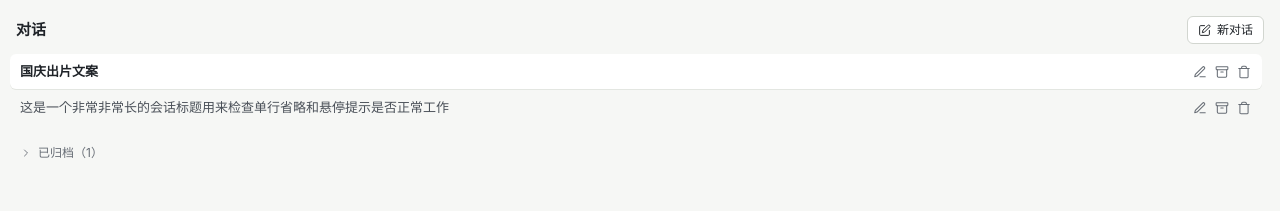
Test: ChatSessionList › 列出未归档会话，已归档默认收起
Expected: the text "国庆出片文案" is shown, left=20, top=63, right=98, bottom=79
Expected: the text "旧会话" is not shown
Click the button "已归档（1）".
click(62, 152)  # box left=10, top=137, right=1262, bottom=169
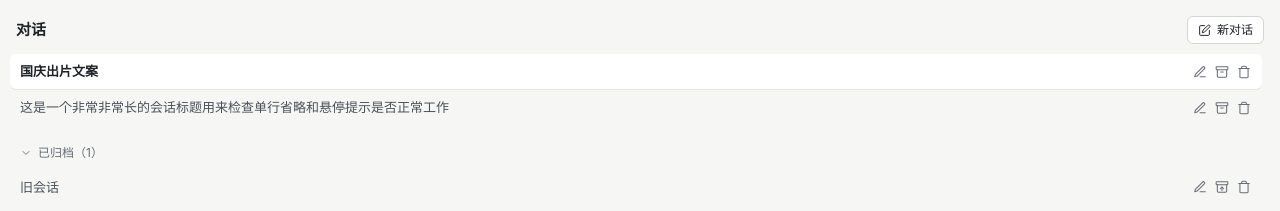
Expected: the text "旧会话" is shown, left=20, top=179, right=59, bottom=195
